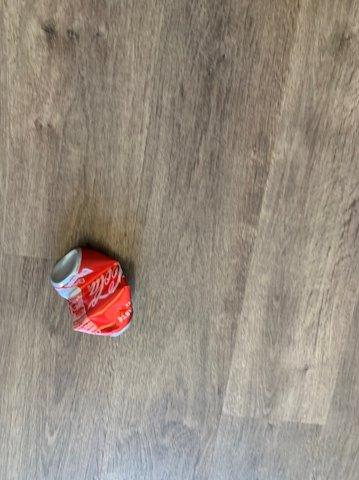kaleng: (53, 248, 133, 335)
